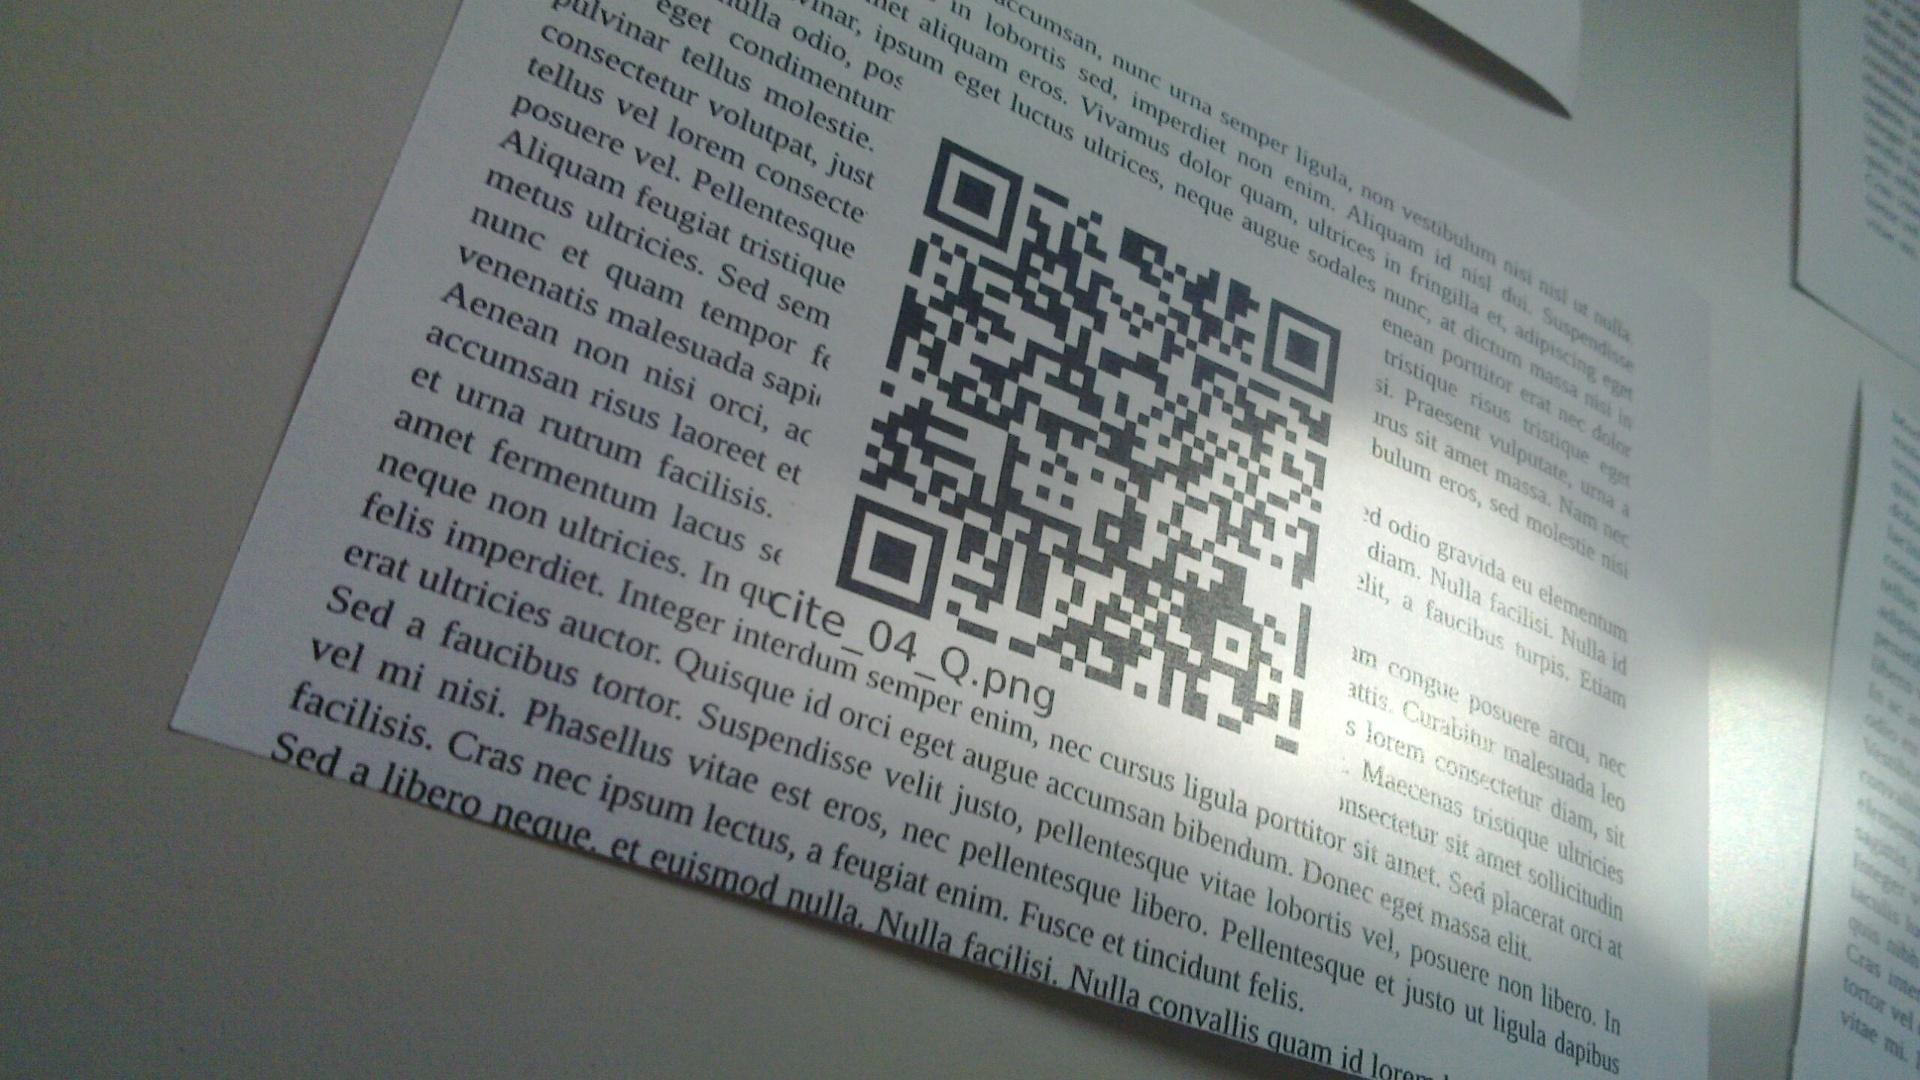Finder pattern: (829, 491, 953, 626), (924, 135, 1025, 252), (1257, 293, 1344, 398)
